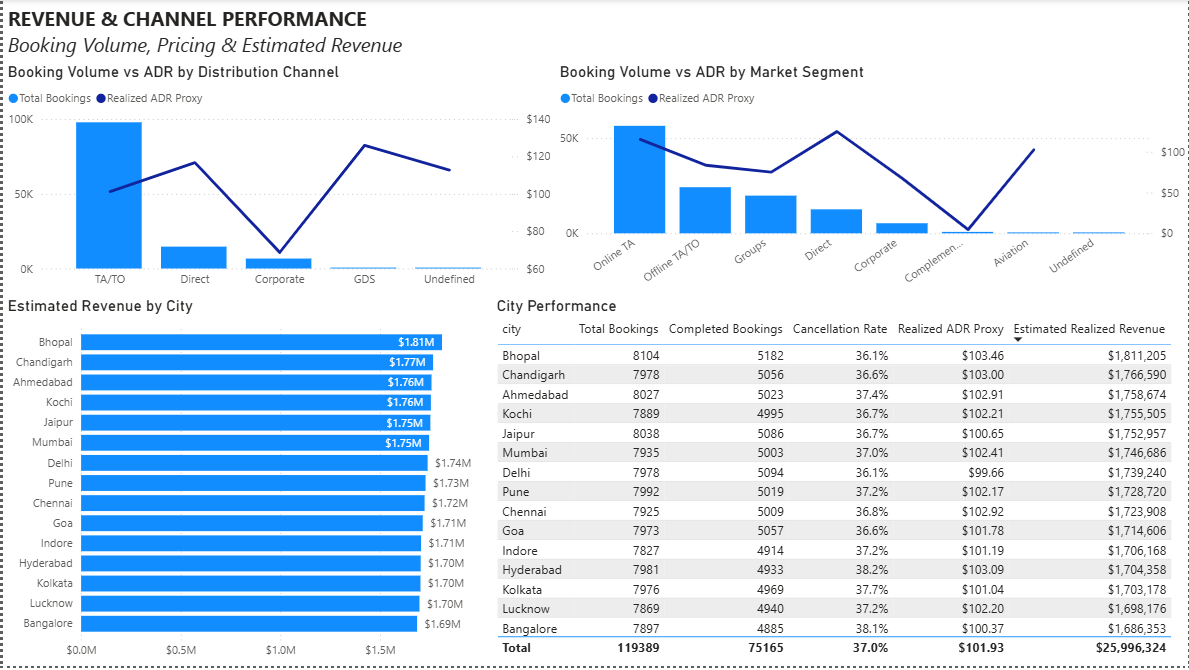

Layout of this report page (visuals, bound fields, positions):
{"tool":"powerbi","page":{"name":"Revenue & Channel Performance","canvas":[1280,720],"ordinal":2},"visuals":[{"type":"lineClusteredColumnComboChart","title":"Booking Volume vs ADR by Distribution Channel","fields":{"Category":["dim_distribution_channel.distribution_channel"],"Y":["_Measures.Total Bookings"],"Y2":["_Measures.Realized ADR Proxy"]},"box":[0,68,595.9,252.6],"z":0},{"type":"lineClusteredColumnComboChart","title":"Booking Volume vs ADR by Market Segment","fields":{"Category":["dim_market_segment.market_segment"],"Y":["_Measures.Total Bookings"],"Y2":["_Measures.Realized ADR Proxy"]},"box":[595.9,68,684.9,252.6],"z":1000},{"type":"clusteredBarChart","title":"Estimated Revenue by City","fields":{"Category":["dim_hotel.city"],"Y":["_Measures.Estimated Realized Revenue"]},"box":[0,320.6,527.9,399.9],"z":2000},{"type":"tableEx","title":"City Performance","fields":{"Values":["dim_hotel.city","_Measures.Total Bookings","_Measures.Completed Bookings","_Measures.Cancellation Rate","_Measures.Realized ADR Proxy","_Measures.Estimated Realized Revenue"]},"box":[527.9,320.6,752.9,399.9],"z":3000},{"type":"textbox","box":[100.4,0,299.6,38.9],"z":6001},{"type":"textbox","box":[0,0,1271.1,68],"z":6002}]}

Visuals, with their boxes in screenshot pixels (x1, y1, x2, y2), scaled from the page's 1280x720 canvas onto the 1189x670 screenshot:
"Booking Volume vs ADR by Distribution Channel" lineClusteredColumnComboChart: Rect(0, 63, 554, 298)
"Booking Volume vs ADR by Market Segment" lineClusteredColumnComboChart: Rect(554, 63, 1188, 298)
"Estimated Revenue by City" clusteredBarChart: Rect(0, 298, 490, 669)
"City Performance" tableEx: Rect(490, 298, 1188, 669)
textbox: Rect(93, 0, 372, 36)
textbox: Rect(0, 0, 1181, 63)
